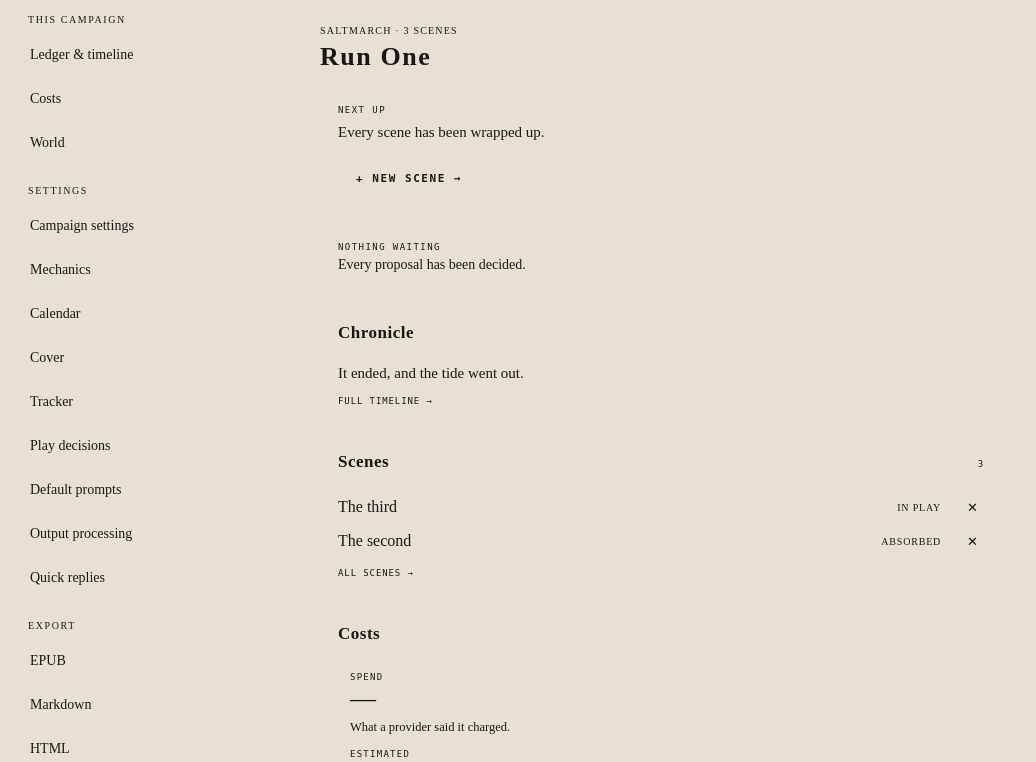
Test: deleting a scene from the hub confirms, deletes, and re-reads
This screenshot has width=1036, height=762.
Check: the link "The third" is shown, box top-left (338, 498), bottom-right (397, 515)
Click the button named "Delete The third".
click(973, 507)  # box top-left (961, 501), bottom-right (984, 514)
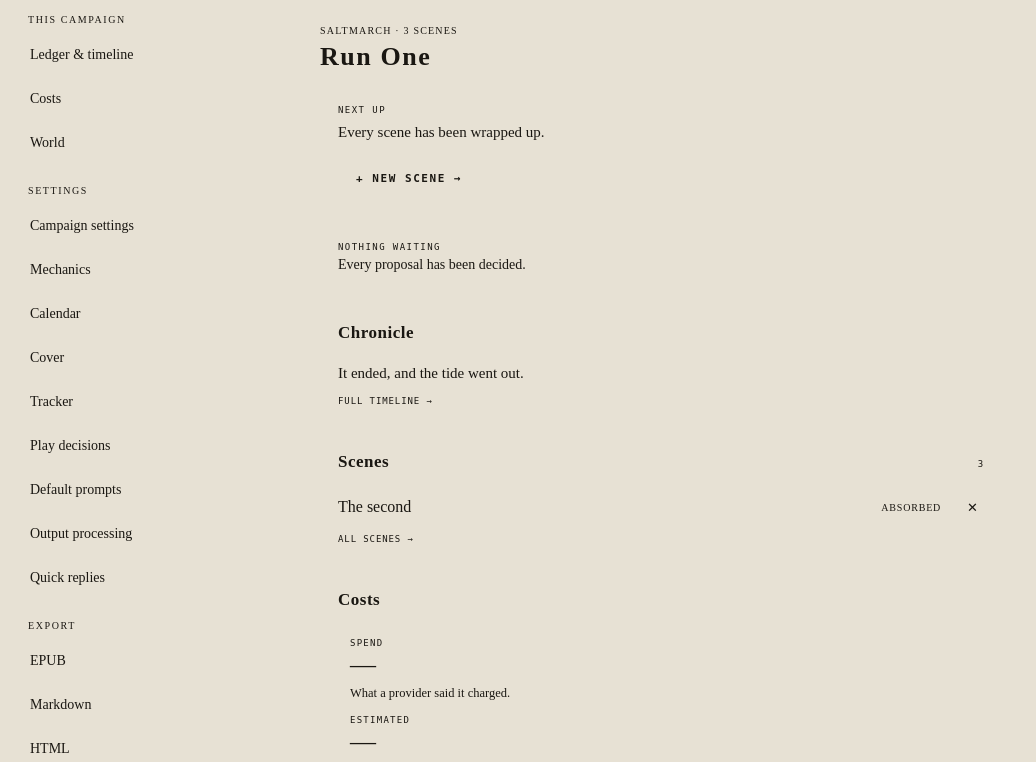
Check: the link "The third" is gone
